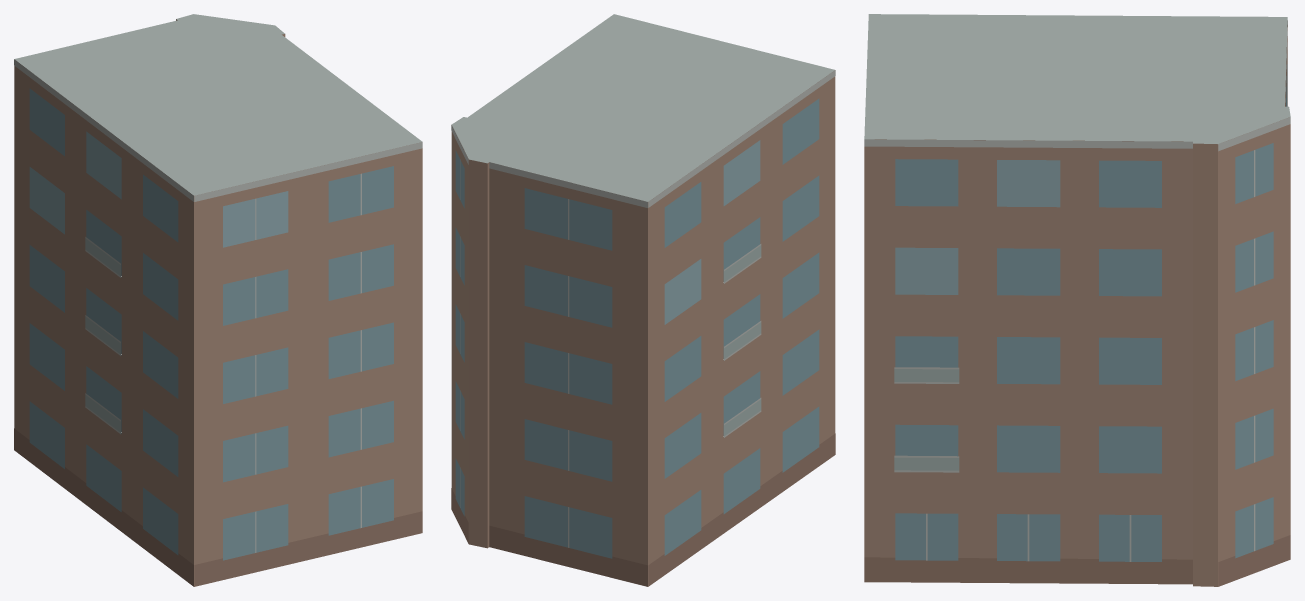
The model's file is survey-upis-32736199.glb.
3 views of the same model, side by side, from view 1: azimuth 30°, elevation 25°; view 2: azimuth 150°, elevation 25°; view 3: azimuth 270°, elevation 25° (orthographic). The views are drawn at different scales.
Parts seen in each view (by area): view 1: survey-upis-32736199.tmp; view 2: survey-upis-32736199.tmp; view 3: survey-upis-32736199.tmp.
Part boxes in pixels (box(x1,y1,x2,y2)): survey-upis-32736199.tmp: box(14, 14, 422, 586); survey-upis-32736199.tmp: box(451, 14, 835, 586); survey-upis-32736199.tmp: box(864, 14, 1290, 586).
Bounding box in the file's own units: 9.4 × 14.9 × 13.01.
